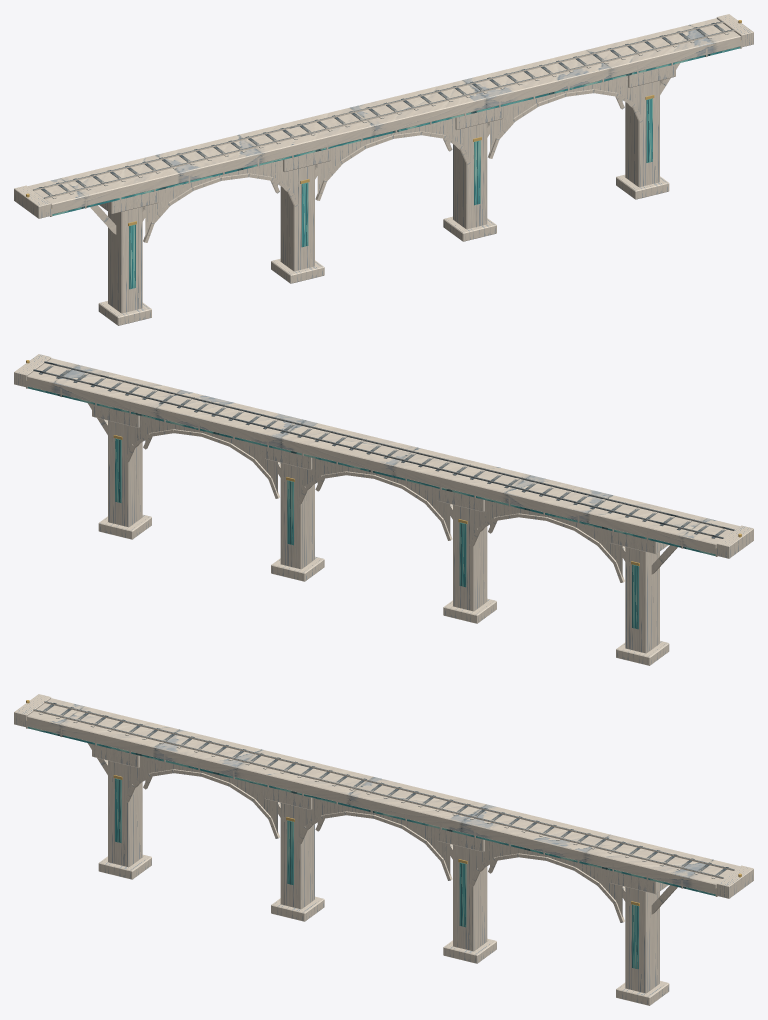
File: railSpan.glb
The picture shows the model from 3 angles, top to bottom: view 1: azimuth 30°, elevation 25°; view 2: azimuth 150°, elevation 25°; view 3: azimuth 330°, elevation 25°; orthographic projection.
Parts seen in each view (by area): view 1: Deck, Pier.0.Shaft, Pier.2.Shaft, Pier.1.Shaft, Pier.3.Shaft, Rail.2.2, Rail.-2.2, Fascia.4.7, EndCap.-81.5, Pier.2.Foot, Pier.0.Foot, Pier.1.Foot (+5 smaller); view 2: Deck, Pier.0.Shaft, Pier.2.Shaft, Pier.1.Shaft, Pier.3.Shaft, Rail.2.2, Rail.-2.2, Fascia.-4.7, EndCap.-81.5, Pier.2.Foot, Pier.0.Foot, Pier.1.Foot (+5 smaller); view 3: Deck, Pier.3.Shaft, Pier.1.Shaft, Pier.2.Shaft, Pier.0.Shaft, Rail.2.2, Rail.-2.2, Fascia.4.7, EndCap.81.5, Pier.1.Foot, Pier.3.Foot, Pier.0.Foot (+5 smaller).
Part boxes in pixels (x1,y1,x2,y2): Deck: (28, 18, 740, 214); Pier.0.Shaft: (108, 207, 142, 313); Pier.2.Shaft: (453, 123, 487, 229); Pier.1.Shaft: (280, 165, 314, 271); Pier.3.Shaft: (625, 80, 659, 187); Rail.2.2: (44, 29, 734, 198); Rail.-2.2: (33, 21, 723, 190); Fascia.4.7: (52, 46, 740, 215); EndCap.-81.5: (14, 185, 51, 218); Pier.2.Foot: (443, 216, 496, 241); Pier.0.Foot: (98, 301, 151, 325); Pier.1.Foot: (271, 258, 324, 283); Deck: (27, 358, 739, 554); Pier.0.Shaft: (625, 547, 659, 653); Pier.2.Shaft: (280, 463, 314, 569); Pier.1.Shaft: (453, 505, 487, 611); Pier.3.Shaft: (108, 420, 142, 527); Rail.2.2: (44, 361, 734, 530); Rail.-2.2: (33, 369, 723, 538); Fascia.-4.7: (27, 386, 715, 555); EndCap.-81.5: (716, 525, 753, 558); Pier.2.Foot: (271, 556, 324, 581); Pier.0.Foot: (616, 641, 669, 665); Pier.1.Foot: (443, 598, 496, 623); Deck: (27, 698, 739, 894); Pier.3.Shaft: (625, 887, 659, 993); Pier.1.Shaft: (280, 803, 314, 909); Pier.2.Shaft: (453, 845, 487, 951); Pier.0.Shaft: (108, 760, 142, 867); Rail.2.2: (33, 709, 723, 878); Rail.-2.2: (44, 701, 734, 870); Fascia.4.7: (27, 726, 715, 895); EndCap.81.5: (716, 865, 753, 898); Pier.1.Foot: (271, 896, 324, 921); Pier.3.Foot: (616, 981, 669, 1005); Pier.0.Foot: (98, 854, 151, 879).
Size of what is drawn, in the model's own units: 166 by 32 by 10.01.
6 materials, 5 textured.
